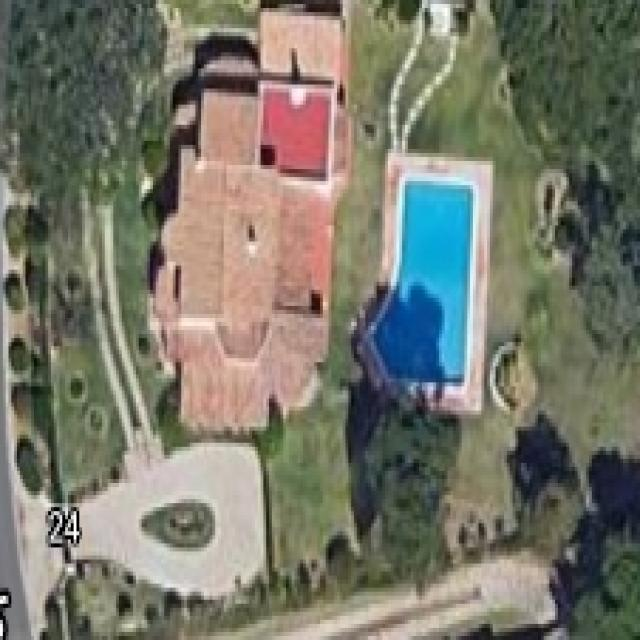pool: (360, 165, 485, 401)
